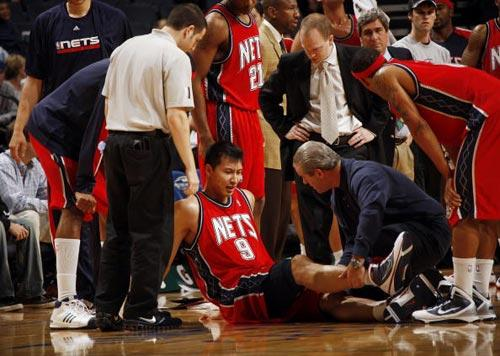10+: (2, 1, 495, 334)
down: (165, 141, 417, 328)
